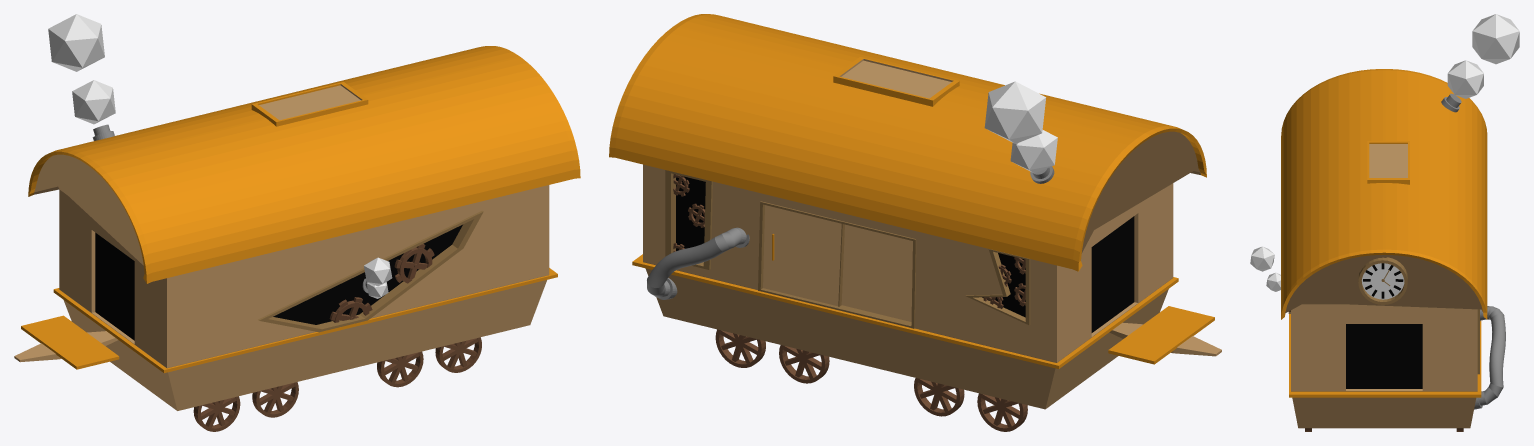
Rendered from Train_car_1.fbx.
3 views of the same model, side by side, from view 1: azimuth 30°, elevation 25°; view 2: azimuth 150°, elevation 25°; view 3: azimuth 270°, elevation 25° (orthographic). The views are drawn at different scales.
Parts seen in each view (by area): view 1: Cube.003, Cube.024, Cube.027, Cube.005, Icosphere.012, Icosphere.013, Cylinder.017, Cylinder.059, Cylinder.056, Cylinder.011, Cylinder.043, Cube.004 (+2 smaller); view 2: Cube.003, Cube.027, Cube.024, Cube.005, Icosphere.012, Cylinder.108, Icosphere.013, Cylinder.015, Cylinder.012, Cylinder.058, Cylinder.057, Cube.004; view 3: Cube.003, Clock Face.011, Icosphere.012, Cube.024, Cube.027, Cylinder.108, Icosphere.013, Icosphere.007.
Boxes of the visible parts, x1,y1,x2,y2 form: Cube.003: (28, 46, 580, 410); Cube.024: (251, 82, 368, 126); Cube.027: (53, 268, 557, 373); Cube.005: (21, 315, 119, 369); Icosphere.012: (48, 14, 104, 71); Icosphere.013: (72, 80, 115, 124); Cylinder.017: (252, 382, 298, 417); Cylinder.059: (377, 351, 423, 387); Cylinder.056: (435, 337, 481, 372); Cylinder.011: (193, 396, 240, 431); Cylinder.043: (394, 244, 434, 283); Cube.004: (14, 331, 117, 362); Cube.003: (609, 14, 1206, 409); Cube.027: (632, 254, 1178, 368); Cube.024: (833, 57, 959, 106); Cube.005: (1108, 306, 1214, 364); Icosphere.012: (984, 81, 1046, 143); Cylinder.108: (647, 227, 749, 299); Icosphere.013: (1010, 130, 1057, 173); Cylinder.015: (914, 378, 964, 416); Cylinder.012: (977, 393, 1027, 431); Cylinder.058: (779, 345, 829, 383); Cylinder.057: (715, 329, 765, 367); Cube.004: (1109, 322, 1221, 356); Cube.003: (1281, 69, 1487, 428); Clock Face.011: (1358, 257, 1407, 304); Icosphere.012: (1472, 14, 1519, 64); Cube.024: (1367, 141, 1409, 184); Cube.027: (1289, 314, 1481, 397); Cylinder.108: (1474, 306, 1505, 409); Icosphere.013: (1447, 60, 1483, 98); Icosphere.007: (1250, 246, 1274, 271).
Size of the model in its own units: 2373 by 1546 by 1260.
